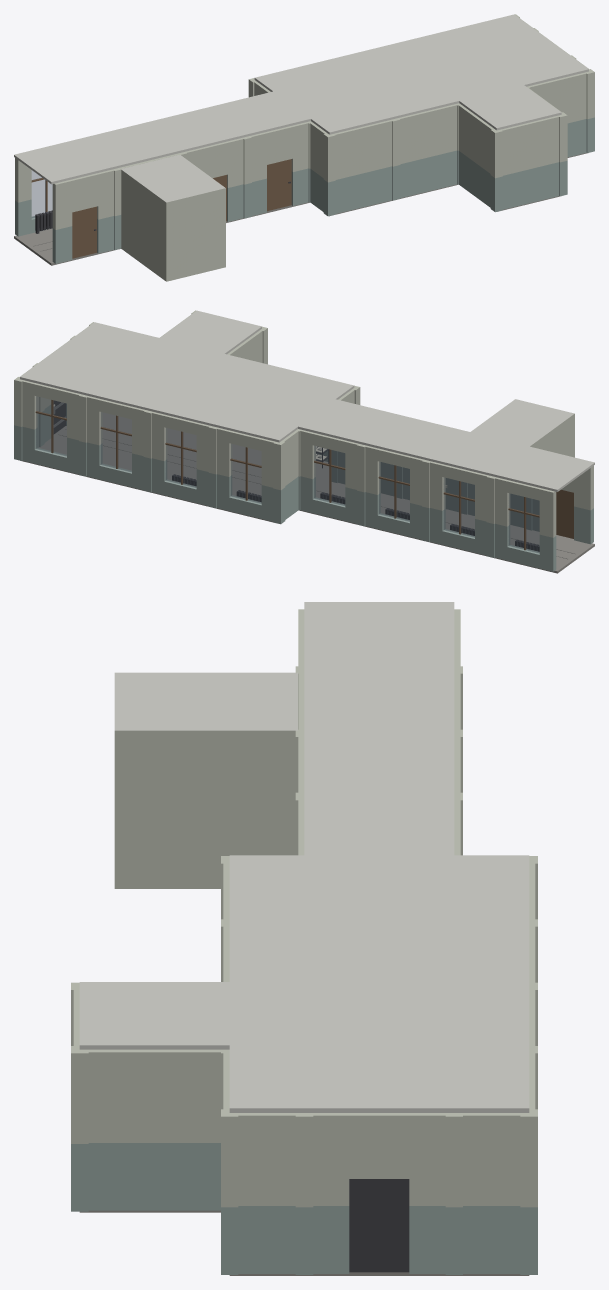
Rendered from INT_Corridor.glb.
3 views of the same model, one above another, from view 1: azimuth 30°, elevation 25°; view 2: azimuth 150°, elevation 25°; view 3: azimuth 270°, elevation 25° (orthographic). The views are drawn at different scales.
Visible parts, largest first — view 1: INT_Corridor_Prop_RoomStub_01, INT_Corridor_Wall_Solid_06, INT_Corridor_Wall_Solid_01, INT_Corridor_Wall_Solid_02, INT_Corridor_Wall_Door_01, INT_Corridor_Wall_Door_04, INT_Corridor_Wall_Solid_04, INT_Corridor_Ceiling_Plain_13, INT_Corridor_Ceiling_Plain_01, INT_Corridor_Ceiling_Plain_05, INT_Corridor_Ceiling_Plain_07, INT_Corridor_Ceiling_Plain_03 (+22 smaller); view 2: INT_Corridor_Wall_Window_01, INT_Corridor_Wall_Window_05, INT_Corridor_Wall_Window_03, INT_Corridor_Wall_Window_06, INT_Corridor_Wall_Window_08, INT_Corridor_Wall_Window_02, INT_Corridor_Wall_Window_04, INT_Corridor_Wall_Window_07, INT_Corridor_Prop_RoomStub_01, INT_Corridor_Ceiling_Plain_01, INT_Corridor_Ceiling_Plain_06, INT_Corridor_Ceiling_Plain_08 (+37 smaller); view 3: INT_Corridor_Prop_RoomStub_01, INT_Corridor_Wall_Solid_05, INT_Corridor_Wall_Door_05, INT_Corridor_Ceiling_Plain_11, INT_Corridor_Ceiling_Plain_12, INT_Corridor_Ceiling_Plain_13, INT_Corridor_Ceiling_Plain_02, INT_Corridor_Ceiling_Plain_05, INT_Corridor_Ceiling_Plain_06, INT_Corridor_Ceiling_Plain_01, INT_Corridor_Ceiling_Plain_03, INT_Corridor_Ceiling_Plain_04 (+12 smaller).
Boxes of the visible parts, bbox=[...] form: INT_Corridor_Prop_RoomStub_01: bbox=[121, 155, 225, 281]; INT_Corridor_Wall_Solid_06: bbox=[500, 115, 559, 209]; INT_Corridor_Wall_Solid_01: bbox=[332, 120, 392, 213]; INT_Corridor_Wall_Solid_02: bbox=[398, 104, 456, 197]; INT_Corridor_Wall_Door_01: bbox=[52, 169, 114, 263]; INT_Corridor_Wall_Door_04: bbox=[249, 122, 308, 215]; INT_Corridor_Wall_Solid_04: bbox=[458, 104, 494, 207]; INT_Corridor_Ceiling_Plain_13: bbox=[459, 85, 561, 130]; INT_Corridor_Ceiling_Plain_01: bbox=[14, 139, 116, 184]; INT_Corridor_Ceiling_Plain_05: bbox=[292, 89, 394, 134]; INT_Corridor_Ceiling_Plain_07: bbox=[357, 73, 459, 118]; INT_Corridor_Ceiling_Plain_03: bbox=[144, 107, 245, 152]; INT_Corridor_Wall_Window_01: bbox=[495, 477, 556, 571]; INT_Corridor_Wall_Window_05: bbox=[216, 427, 275, 521]; INT_Corridor_Wall_Window_03: bbox=[364, 445, 423, 539]; INT_Corridor_Wall_Window_06: bbox=[152, 412, 210, 505]; INT_Corridor_Wall_Window_08: bbox=[22, 380, 81, 474]; INT_Corridor_Wall_Window_02: bbox=[430, 461, 488, 555]; INT_Corridor_Wall_Window_04: bbox=[300, 430, 359, 523]; INT_Corridor_Wall_Window_07: bbox=[87, 396, 145, 489]; INT_Corridor_Prop_RoomStub_01: bbox=[471, 399, 574, 457]; INT_Corridor_Ceiling_Plain_01: bbox=[492, 446, 594, 491]; INT_Corridor_Ceiling_Plain_06: bbox=[214, 397, 316, 442]; INT_Corridor_Ceiling_Plain_08: bbox=[149, 381, 251, 426]; INT_Corridor_Prop_RoomStub_01: bbox=[114, 672, 297, 888]; INT_Corridor_Wall_Solid_05: bbox=[86, 1049, 222, 1210]; INT_Corridor_Wall_Door_05: bbox=[310, 1113, 447, 1273]; INT_Corridor_Ceiling_Plain_11: bbox=[229, 1045, 379, 1112]; INT_Corridor_Ceiling_Plain_12: bbox=[379, 1045, 529, 1112]; INT_Corridor_Ceiling_Plain_13: bbox=[79, 982, 229, 1049]; INT_Corridor_Ceiling_Plain_02: bbox=[304, 665, 454, 728]; INT_Corridor_Ceiling_Plain_05: bbox=[229, 855, 379, 918]; INT_Corridor_Ceiling_Plain_06: bbox=[379, 855, 529, 918]; INT_Corridor_Ceiling_Plain_01: bbox=[304, 602, 454, 665]; INT_Corridor_Ceiling_Plain_03: bbox=[304, 728, 454, 791]; INT_Corridor_Ceiling_Plain_04: bbox=[304, 792, 454, 855].
Bounding box in the file's own units: 24.17 × 3.7 × 9.35.
